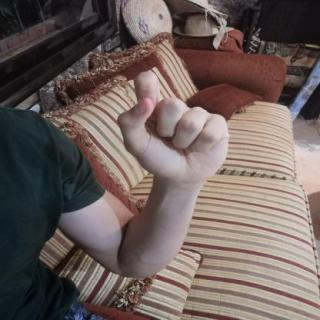FAA: (106, 64, 244, 194)
